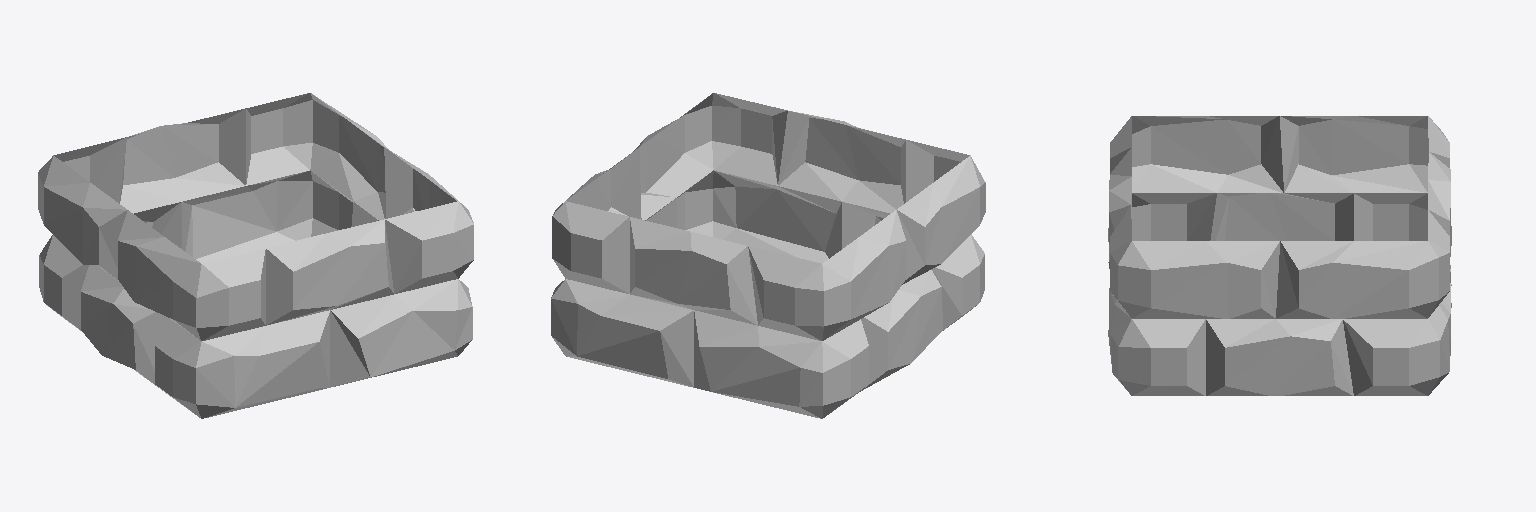
File: PillarTileBody.obj
The picture shows the model from 3 angles: view 1: azimuth 30°, elevation 25°; view 2: azimuth 150°, elevation 25°; view 3: azimuth 270°, elevation 25°; orthographic projection.
Bounding box in the file's own units: 1 × 0.5 × 1.